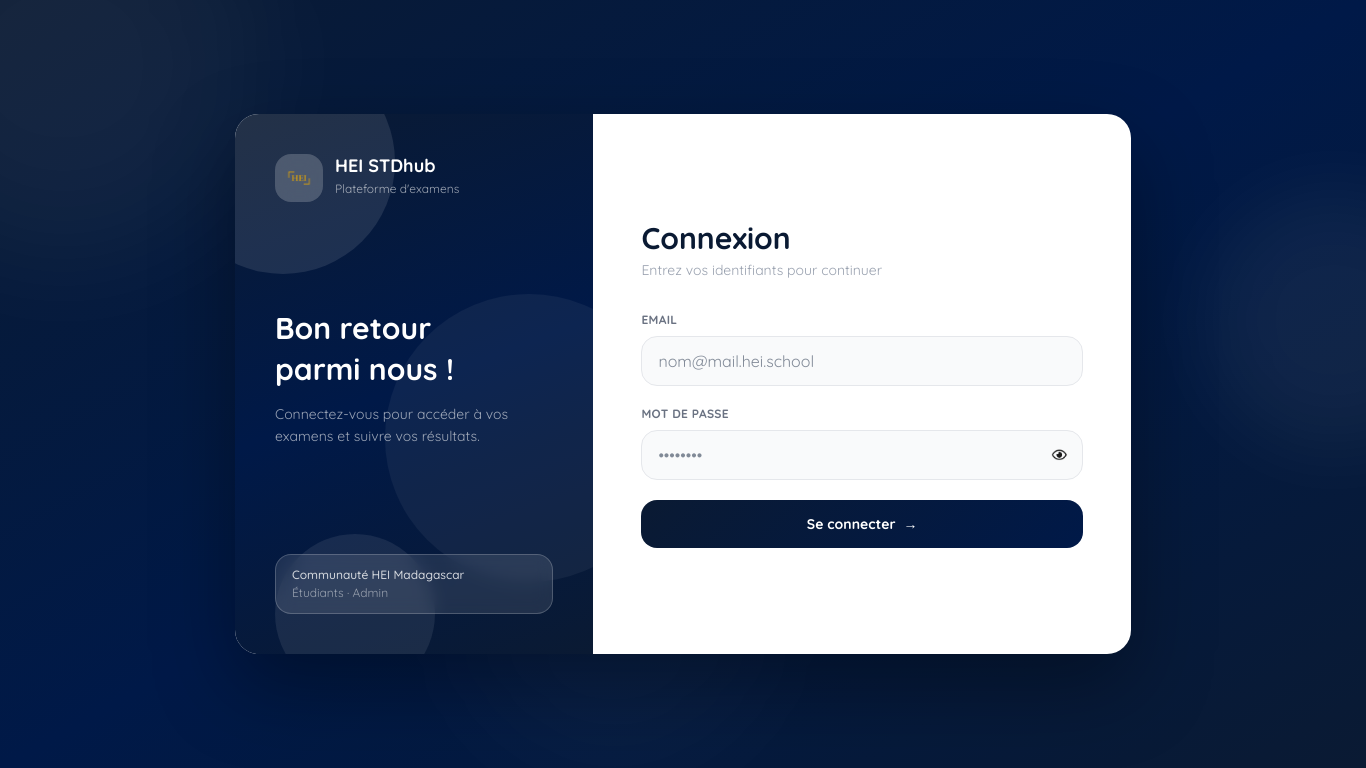
Test: Login › affiche une erreur sur identifiants invalides (401)
This screenshot has width=1366, height=768.
Type "alice@mail.hei.school" into the field with id "email".
click(862, 361); type("alice@mail.hei.school")  # box [641,336,1083,386]
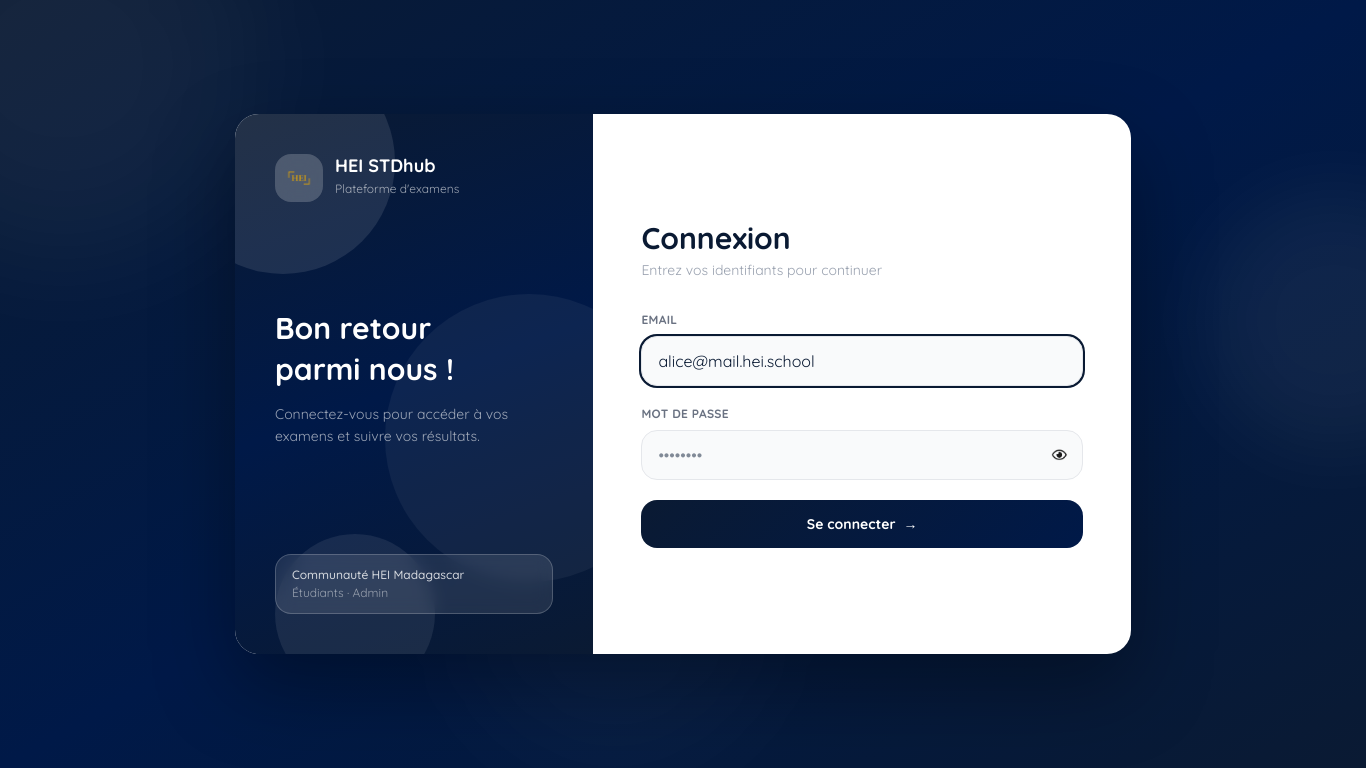
Type "wrongpassword" into the password field labelled "Mot de passe".
click(862, 455); type("wrongpassword")  # box [641,430,1083,480]
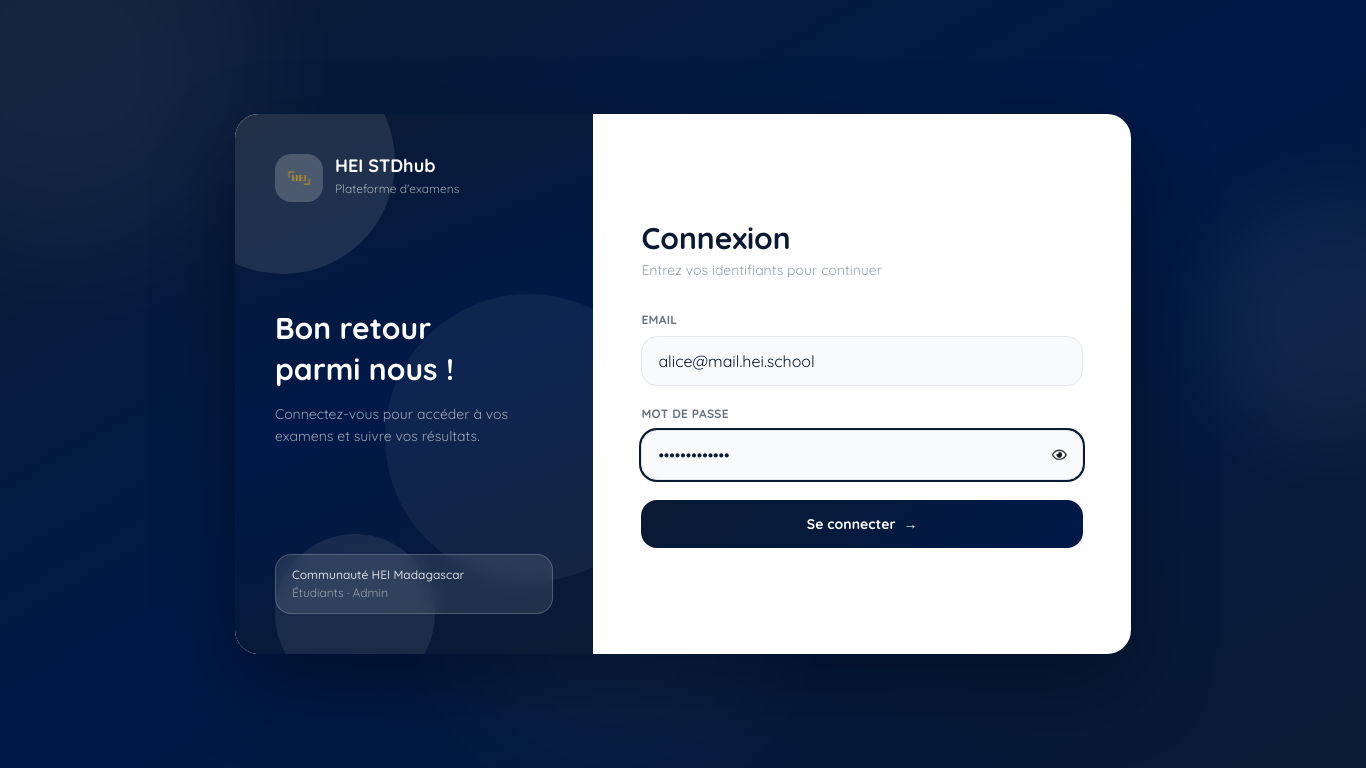
Click the submit button.
click(862, 524)  # box [641,500,1083,548]
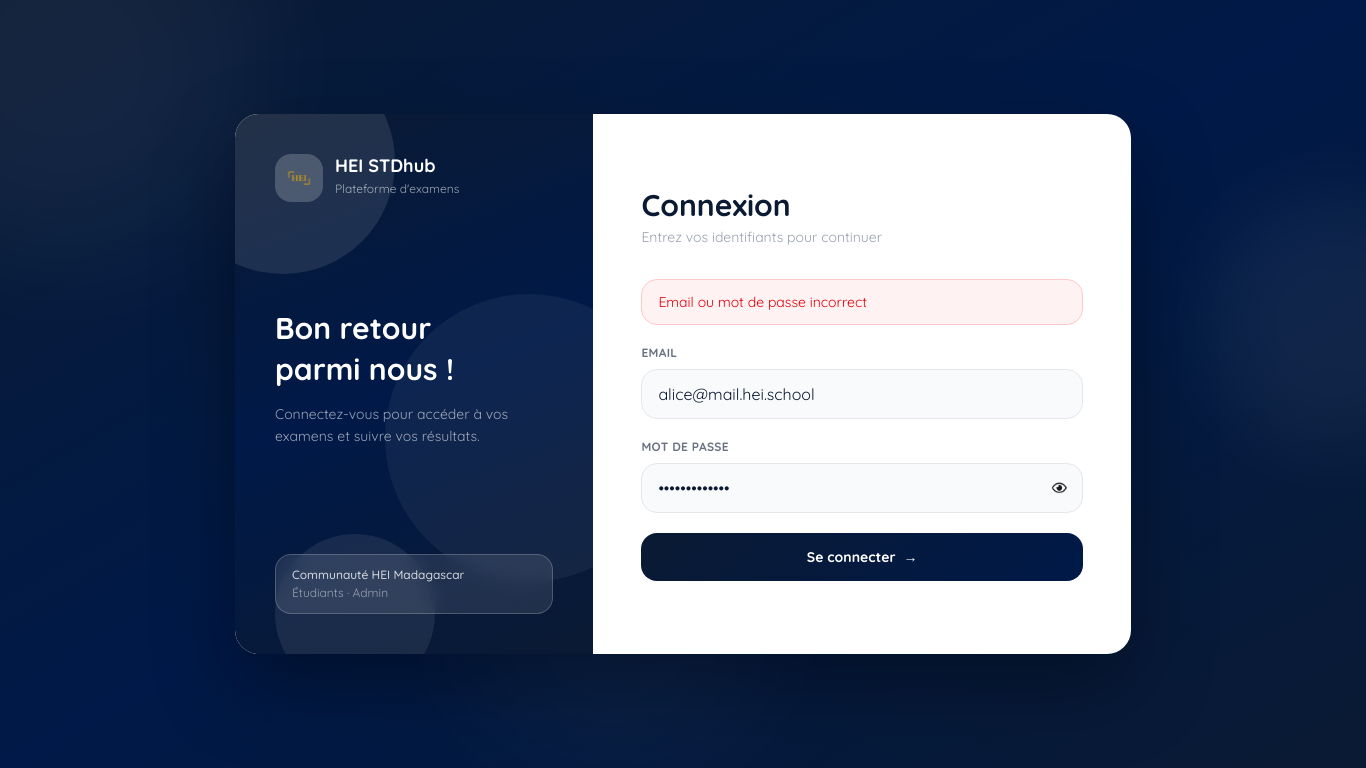
Expected: the text "Email ou mot de passe incorrect" is shown, [641,279,1083,325]
